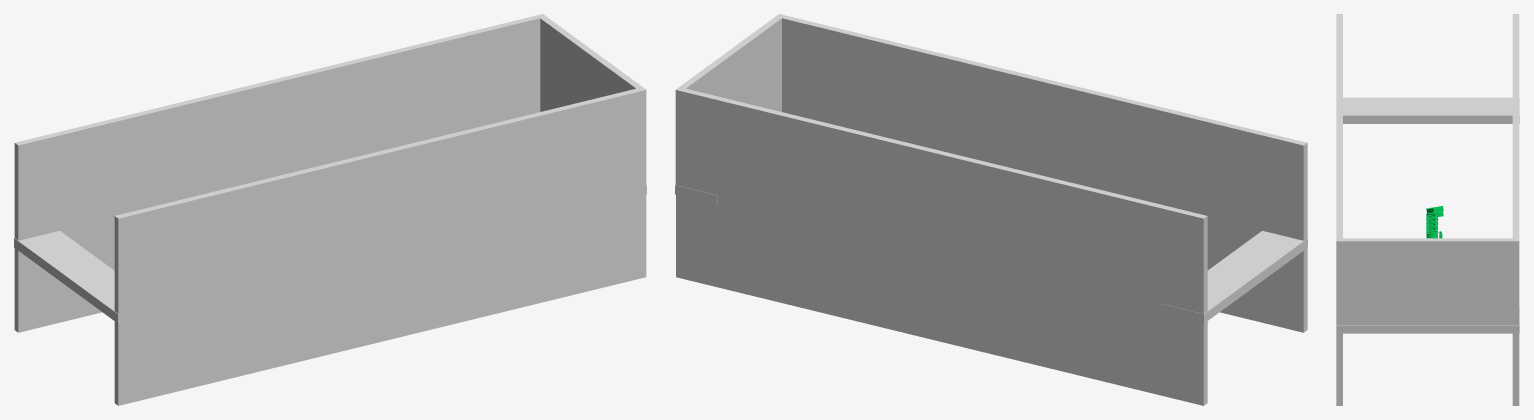
The model's file is level6.glb.
The picture shows the model from 3 angles, left to right: view 1: azimuth 30°, elevation 25°; view 2: azimuth 150°, elevation 25°; view 3: azimuth 270°, elevation 25°; orthographic projection. The views are drawn at different scales.
Parts seen in each view (by area): view 1: Cube.004, Cube.001, Cube.002, Cube.003; view 2: Cube.001, Cube.004, Cube.002, Cube.003; view 3: Cube.002, Cube.003, Cube.001, Cube.004, Cube, Text_X.
Part boxes in pixels (left/top/right/bottom): Cube.004: left=114, top=88, right=646, bottom=405; Cube.001: left=14, top=14, right=545, bottom=332; Cube.002: left=537, top=14, right=646, bottom=111; Cube.003: left=14, top=231, right=159, bottom=323; Cube.001: left=676, top=88, right=1207, bottom=405; Cube.004: left=778, top=14, right=1307, bottom=332; Cube.002: left=675, top=14, right=784, bottom=184; Cube.003: left=1162, top=230, right=1307, bottom=323; Cube.002: left=1337, top=238, right=1518, bottom=324; Cube.003: left=1343, top=97, right=1519, bottom=123; Cube.001: left=1512, top=14, right=1519, bottom=405; Cube.004: left=1336, top=14, right=1342, bottom=405; Cube: left=1336, top=307, right=1519, bottom=333; Text_X: left=1426, top=206, right=1443, bottom=238.
Bounding box in the file's own units: 88.19 × 29.83 × 30.
